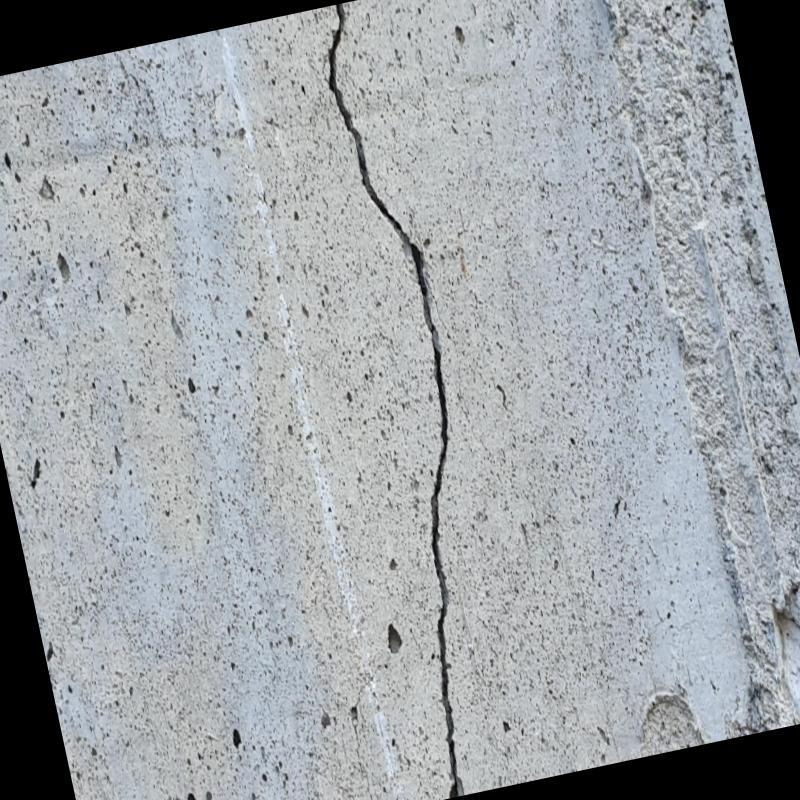pothole: (322, 5, 466, 798)
